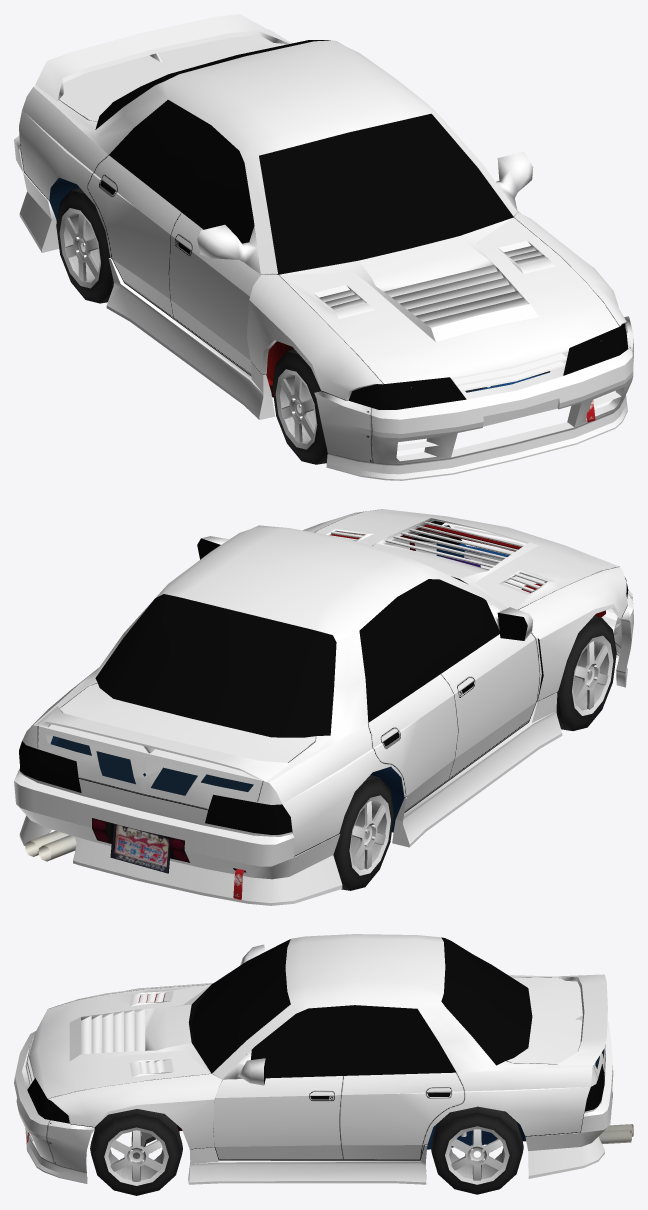
3 renders of one model, top to bottom at view 1: azimuth 30°, elevation 25°; view 2: azimuth 150°, elevation 25°; view 3: azimuth 270°, elevation 25°, orthographic. The views are drawn at different scales.
Visible parts, largest first — view 1: R32_BODY_2D, R32_BODY_HOOD_ABOMOON, R32_GLASS_2D, R32_RB_FRONT_BUMPER, R32_GLASS_2D__2_, R32_BNS_FENDER_FR_2D, R32_BNS_SKIRT_R_4D, R32_BODY_SPOILER_0, R32_BODY_2D_TRUNK_DOOR, R32_GLASS_HEAD_LIGHT, R32_BODY_MIRROR_1, WHEEL_TIRE_L_SIDE_S_3 (+10 smaller); view 2: R32_BODY_2D, R32_GLASS_2D__3_, R32_BNS_REAR_BUMPER_4D_ABOMOON, R32_BODY_2D_TRUNK_DOOR, R32_BODY_HOOD_ABOMOON, R32_GLASS_2D__2_, R32_BNS_SKIRT_R_4D, R32_BNS_FENDER_FR_2D, R32_FRAME_MAIN, R32_GLASS_REAR_LIGHT, R32_BODY_SPOILER_0, R32_BNS_REAR_BUMPER_4D_ABOMOON_1 (+10 smaller); view 3: R32_BODY_2D, R32_BODY_HOOD_ABOMOON, R32_GLASS_2D__1_, R32_GLASS_2D, R32_GLASS_2D__3_, R32_BNS_FENDER_FL_2D, R32_BNS_SKIRT_L_4D, R32_BODY_2D_TRUNK_DOOR, R32_RB_FRONT_BUMPER, R32_BNS_REAR_BUMPER_4D_ABOMOON, WHEEL_TIRE_L_SIDE_S_2, WHEEL_TIRE_L_SIDE_S (+12 smaller).
Part boxes in pixels (x1,y1,x2,y2): R32_BODY_2D: [19, 29, 520, 375]; R32_BODY_HOOD_ABOMOON: [278, 217, 619, 384]; R32_GLASS_2D: [259, 113, 513, 274]; R32_RB_FRONT_BUMPER: [314, 316, 633, 480]; R32_GLASS_2D__2_: [109, 100, 254, 243]; R32_BNS_FENDER_FR_2D: [247, 274, 382, 400]; R32_BNS_SKIRT_R_4D: [106, 257, 275, 419]; R32_BODY_SPOILER_0: [35, 14, 290, 101]; R32_BODY_2D_TRUNK_DOOR: [59, 35, 286, 121]; R32_GLASS_HEAD_LIGHT: [348, 323, 628, 409]; R32_BODY_MIRROR_1: [197, 152, 533, 274]; WHEEL_TIRE_L_SIDE_S_3: [56, 190, 112, 303]; R32_BODY_2D: [22, 525, 539, 855]; R32_GLASS_2D__3_: [95, 594, 336, 737]; R32_BNS_REAR_BUMPER_4D_ABOMOON: [14, 768, 342, 905]; R32_BODY_2D_TRUNK_DOOR: [37, 682, 316, 809]; R32_BODY_HOOD_ABOMOON: [314, 509, 619, 609]; R32_GLASS_2D__2_: [359, 579, 499, 722]; R32_BNS_SKIRT_R_4D: [392, 692, 562, 847]; R32_BNS_FENDER_FR_2D: [519, 567, 627, 701]; R32_FRAME_MAIN: [50, 524, 605, 899]; R32_GLASS_REAR_LIGHT: [19, 741, 292, 834]; R32_BODY_SPOILER_0: [35, 706, 290, 781]; R32_BNS_REAR_BUMPER_4D_ABOMOON_1: [92, 818, 189, 873]; R32_BODY_2D: [188, 934, 597, 1171]; R32_BODY_HOOD_ABOMOON: [29, 984, 211, 1098]; R32_GLASS_2D__1_: [251, 1005, 456, 1078]; R32_GLASS_2D: [192, 939, 290, 1073]; R32_GLASS_2D__3_: [441, 937, 532, 1065]; R32_BNS_FENDER_FL_2D: [48, 1074, 221, 1149]; R32_BNS_SKIRT_L_4D: [188, 1144, 427, 1184]; R32_BODY_2D_TRUNK_DOOR: [506, 977, 605, 1078]; R32_RB_FRONT_BUMPER: [14, 1031, 94, 1183]; R32_BNS_REAR_BUMPER_4D_ABOMOON: [525, 1019, 613, 1178]; WHEEL_TIRE_L_SIDE_S_2: [432, 1112, 522, 1194]; WHEEL_TIRE_L_SIDE_S: [91, 1113, 181, 1195].
Bounding box in the file's own units: 2.09 × 1.43 × 4.37.
Materials: 15 (14 with a texture image).
